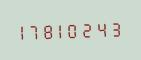eight: (43, 20, 55, 40)
four: (95, 19, 107, 38)
one: (17, 21, 29, 41), (56, 20, 68, 40)
seven: (30, 21, 42, 40)
three: (108, 18, 120, 38)
two: (82, 19, 94, 39)
zero: (69, 20, 81, 39)
